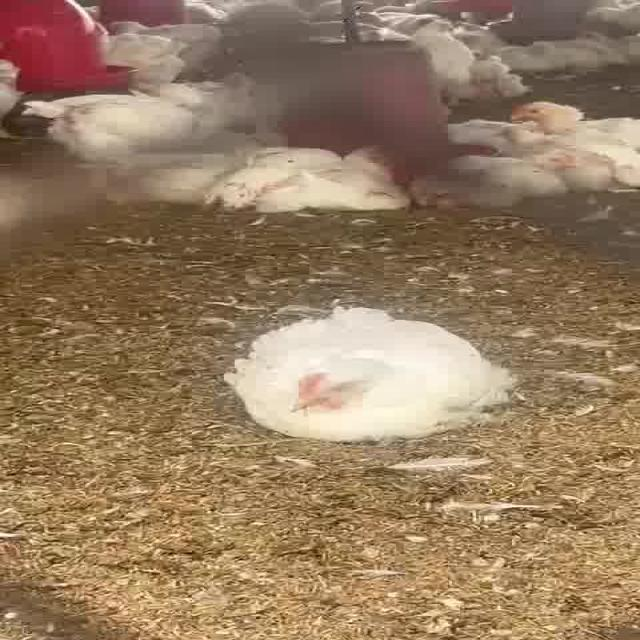AbNormal: (227, 310, 515, 444), (224, 144, 402, 210), (421, 154, 588, 206), (506, 98, 640, 149)
